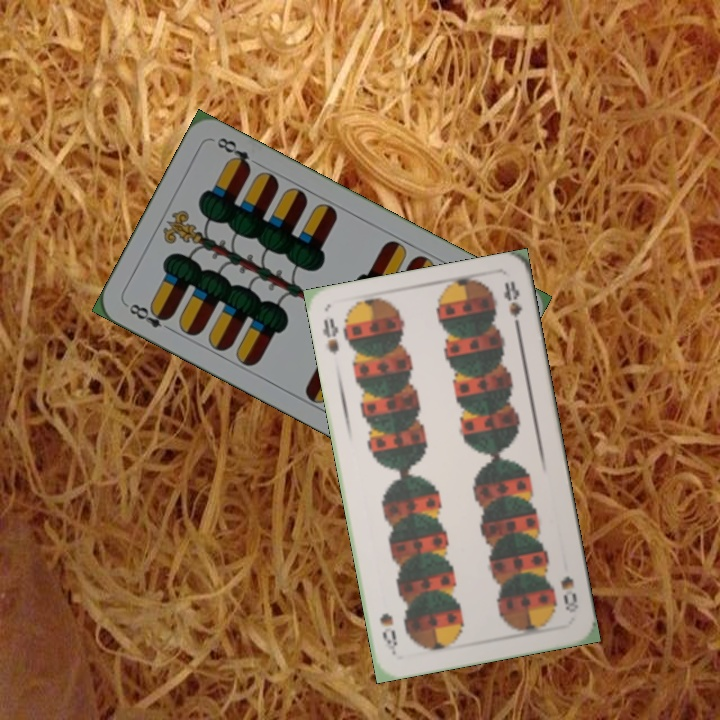E8: (125, 299, 176, 335)
S8: (318, 314, 342, 358), (557, 572, 581, 615)
